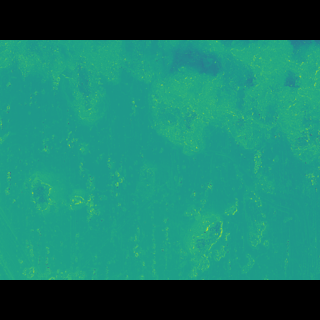Loch: (0, 69, 320, 168), (173, 171, 277, 244)
